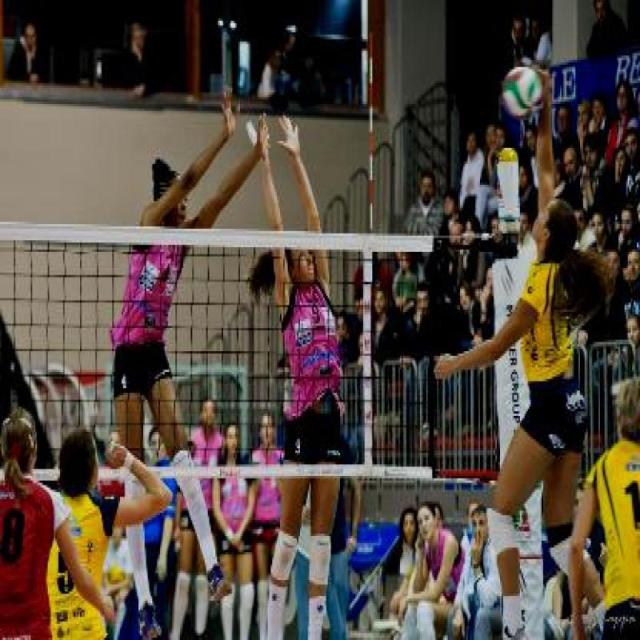volleyball: (502, 62, 543, 125)
